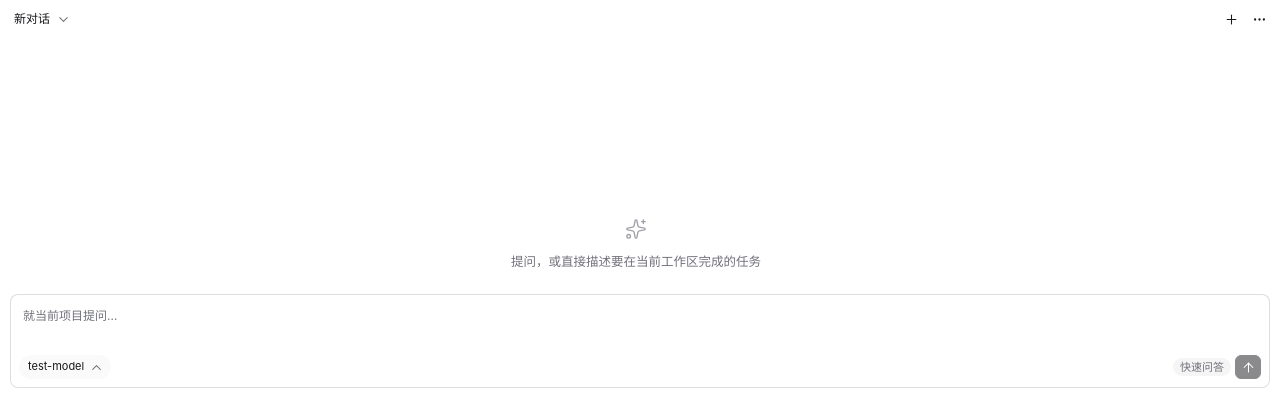
Test case: allows Stop to be retried after a cancellation failure without losing the next draft
The image size is (1280, 411).
Type "Question" into the text box named "向 AI 提问".
click(640, 329); type("Question")  # box [19,303,1261,355]
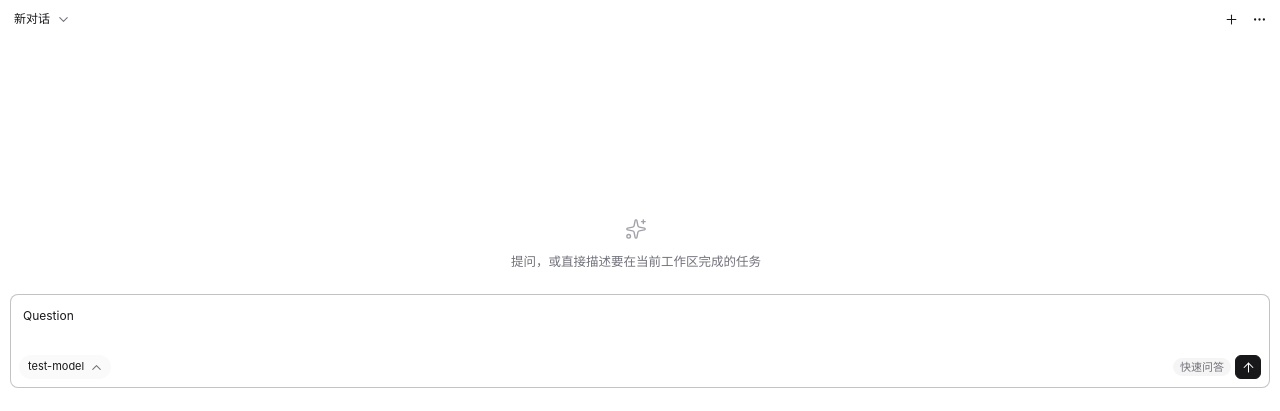
Click the button named "发送".
click(1248, 367)  # box [1235,355,1261,379]
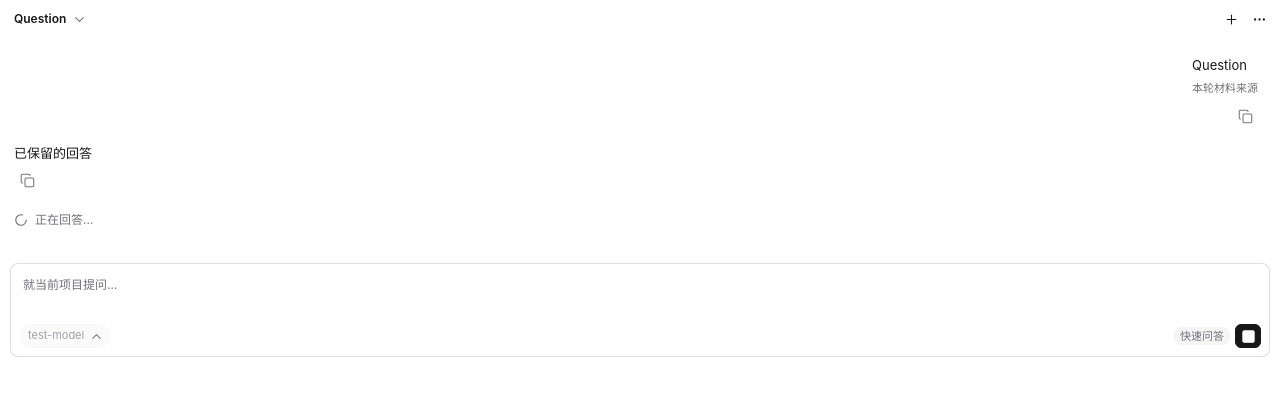
Now the text "已保留的回答" is shown, box [14,142,92,164]
Type "Keep my next draft" into the text box named "向 AI 提问".
click(640, 298); type("Keep my next draft")  # box [19,272,1261,324]
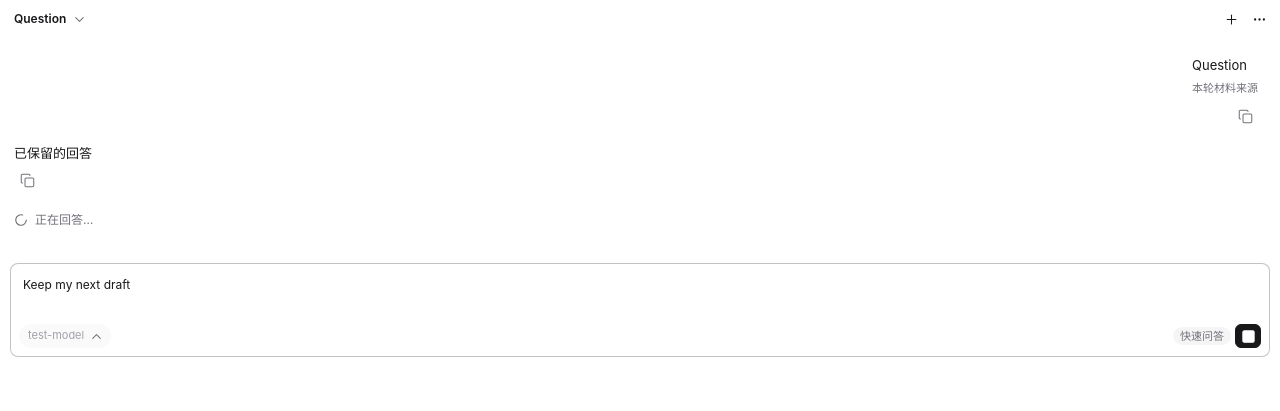
Click the button named "中止任务".
click(1248, 336)  # box [1235,324,1261,348]
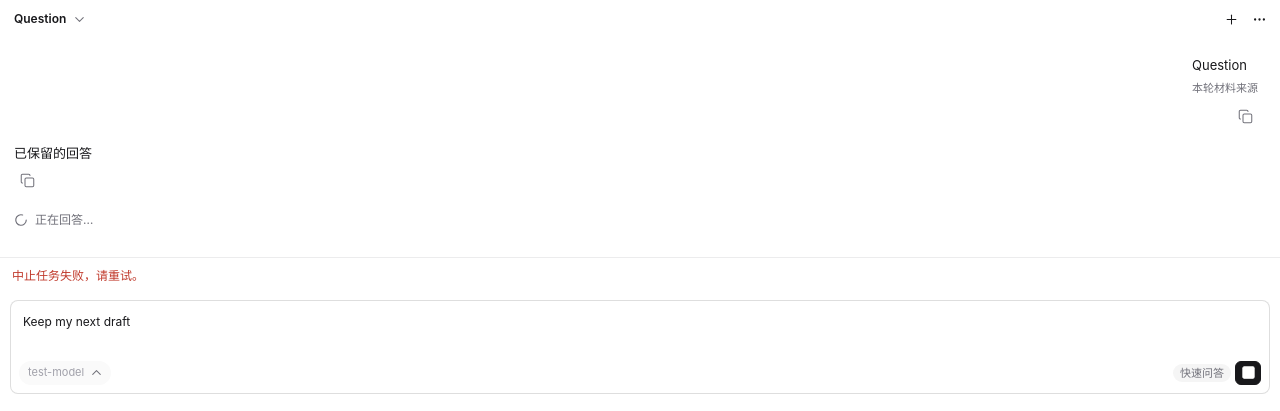
Now the button named "中止任务" is enabled
Now the text "中止任务失败，请重试。" is shown, box [0,257,1279,294]
Click the button named "中止任务".
click(1248, 373)  # box [1235,361,1261,385]
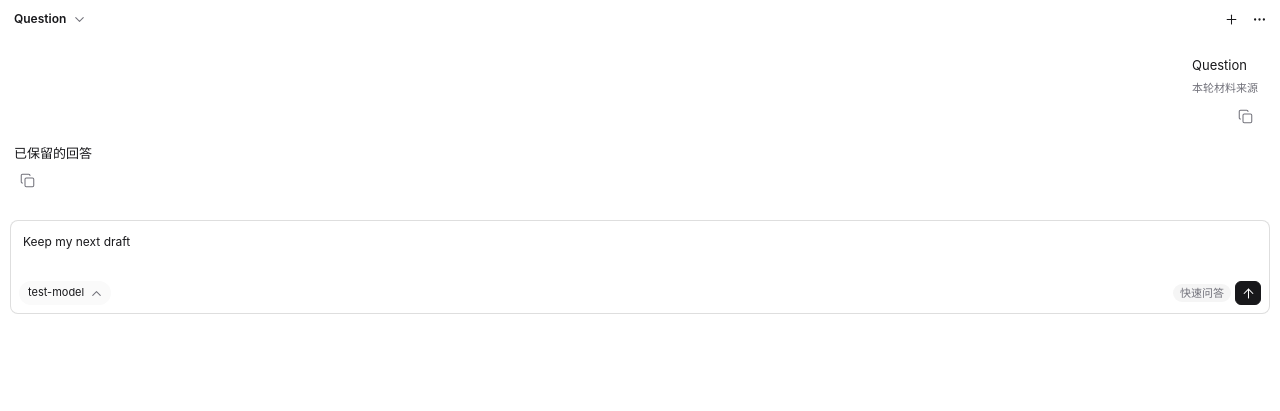
Now the button named "发送" is shown, box [1235,281,1261,305]
Now the text "中止任务失败，请重试。" is gone
